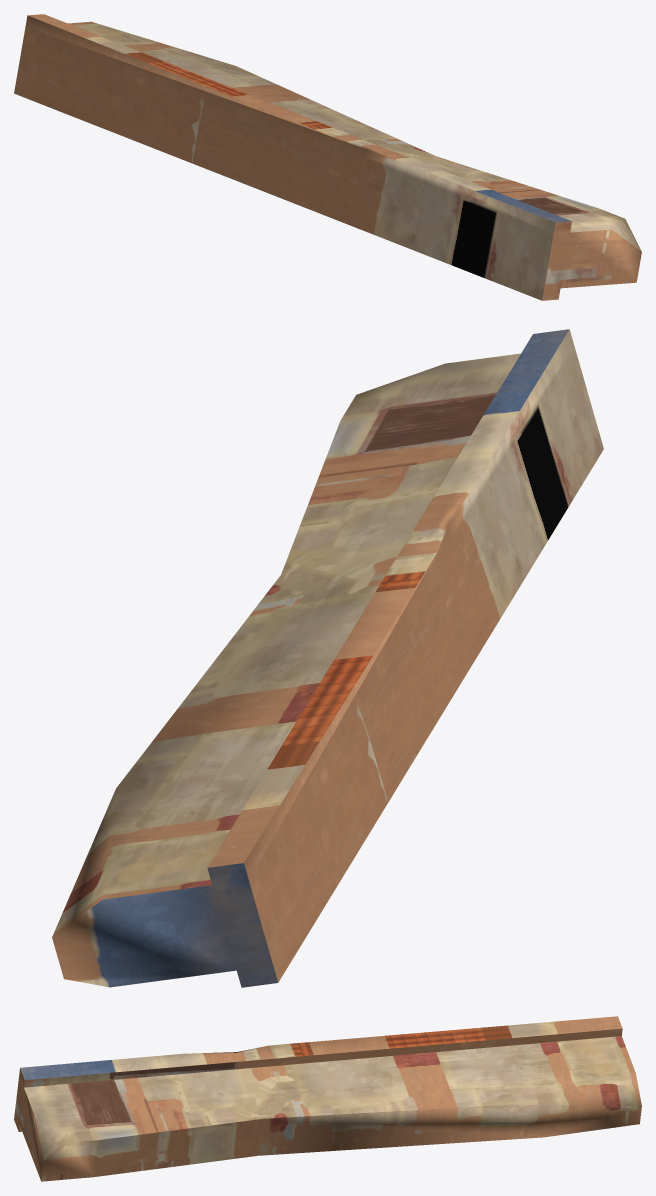
Rendered from SM_ArchFall.fbx.
3 renders of one model, top to bottom at view 1: azimuth 30°, elevation 25°; view 2: azimuth 150°, elevation 25°; view 3: azimuth 270°, elevation 25°, orthographic. The views are drawn at different scales.
Visible parts, largest first — view 1: pCube1353; view 2: pCube1353; view 3: pCube1353.
Boxes of the visible parts, left/top/right/bottom form: pCube1353: left=14, top=14, right=641, bottom=300; pCube1353: left=52, top=329, right=603, bottom=987; pCube1353: left=14, top=1016, right=641, bottom=1181.
Size of the model in its own units: 2.44 by 0.8859 by 5.69.
